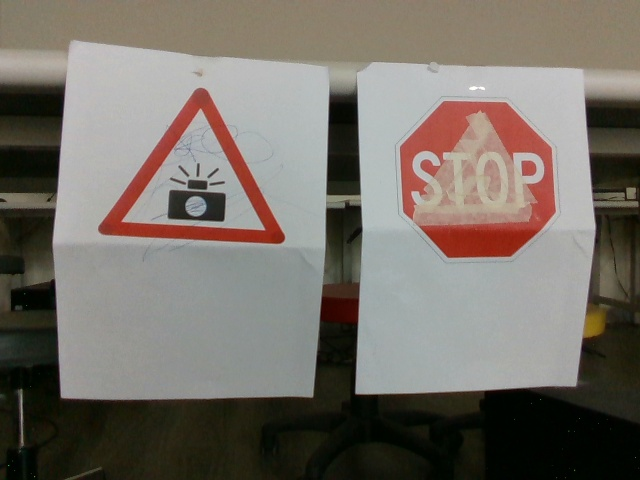camera: (105, 88, 283, 243)
stop: (399, 100, 561, 264)
